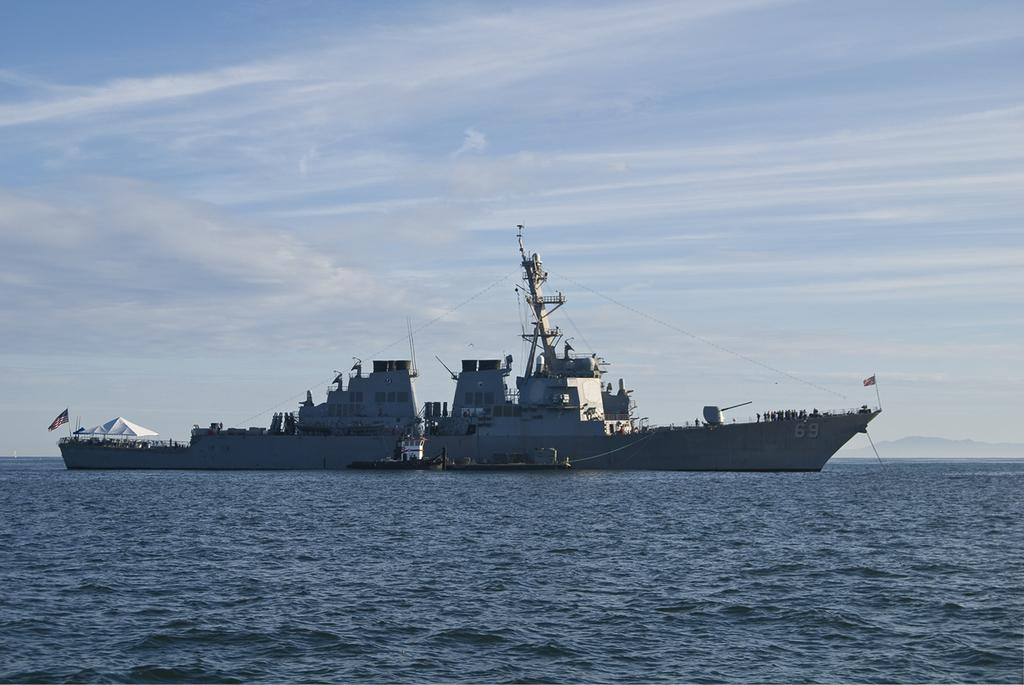Warship: (50, 240, 886, 488)
